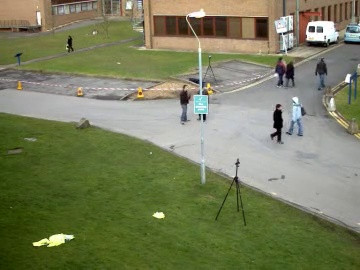person: (179, 84, 195, 122), (178, 83, 193, 123), (179, 84, 194, 123)
